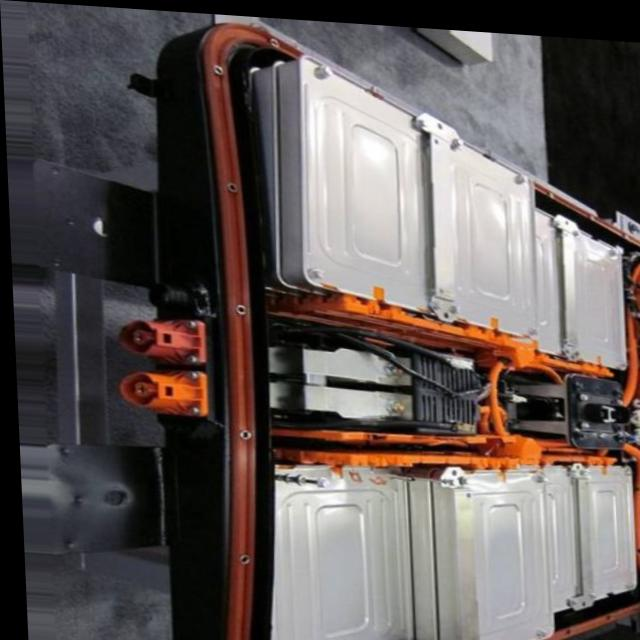Battery Module: (307, 88, 530, 319), (460, 481, 629, 613), (277, 495, 396, 640), (537, 222, 619, 347)
Bolt: (280, 469, 325, 487), (438, 466, 472, 485), (314, 59, 340, 78), (558, 334, 581, 354), (448, 123, 467, 145), (549, 207, 566, 230), (305, 260, 325, 278), (414, 109, 433, 127), (425, 292, 446, 307), (577, 577, 596, 593), (569, 211, 582, 234), (570, 458, 591, 472), (449, 293, 462, 313), (608, 233, 623, 249), (516, 164, 530, 181), (531, 620, 548, 633), (616, 455, 632, 468), (531, 467, 548, 479), (563, 589, 577, 603), (620, 571, 633, 584), (614, 351, 626, 361), (466, 640, 485, 640)
Bus-bar: (346, 294, 610, 368)
Cable: (618, 264, 640, 398), (484, 350, 508, 439), (625, 436, 640, 571)
Nut: (383, 358, 404, 377), (383, 394, 406, 408), (576, 410, 592, 423), (575, 383, 590, 396)
Screw: (220, 173, 244, 197), (228, 295, 249, 315), (205, 58, 227, 76), (231, 548, 251, 567), (230, 425, 253, 441), (626, 209, 640, 231), (263, 29, 282, 44)
